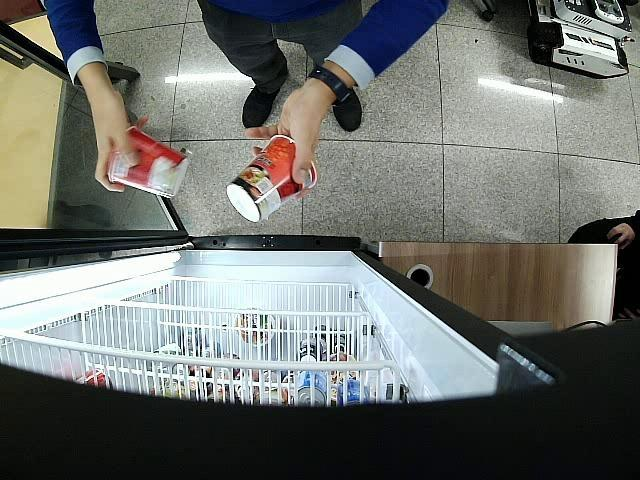02_shinRamen_S: (226, 136, 316, 221), (108, 123, 188, 198)
